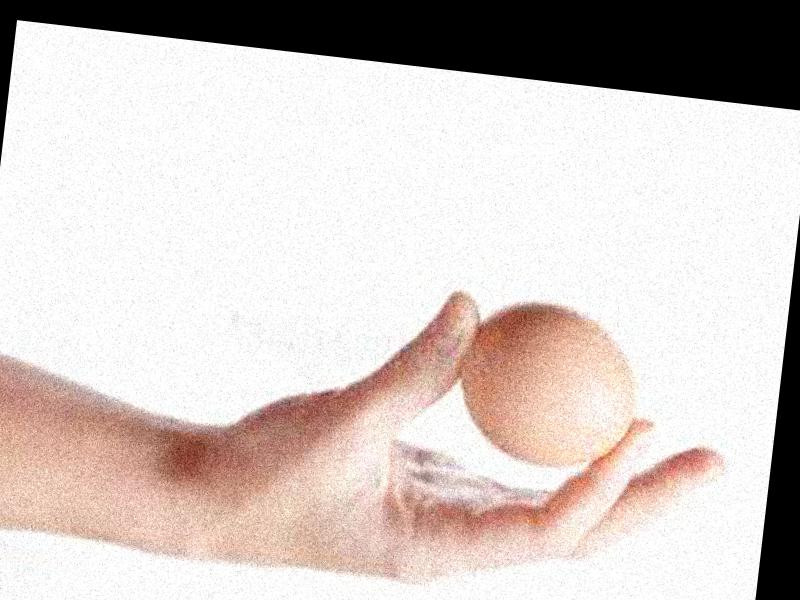Eggs: (449, 296, 644, 472)
